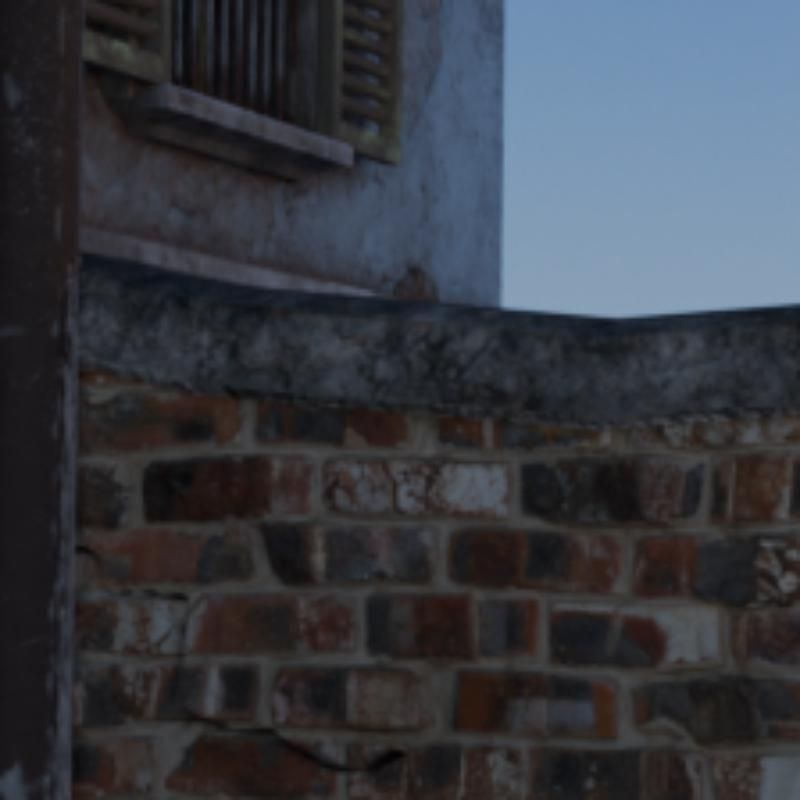pothole: (75, 543, 414, 796), (381, 464, 406, 514), (186, 596, 207, 614), (154, 629, 175, 643)
